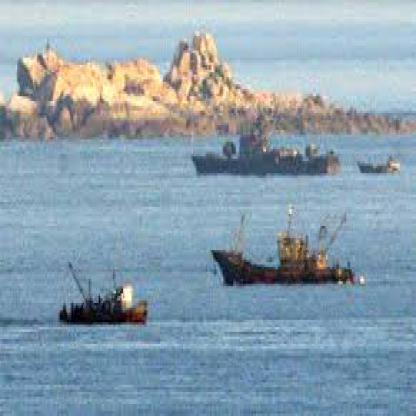fish-b: (199, 202, 373, 308), (54, 248, 154, 334)
